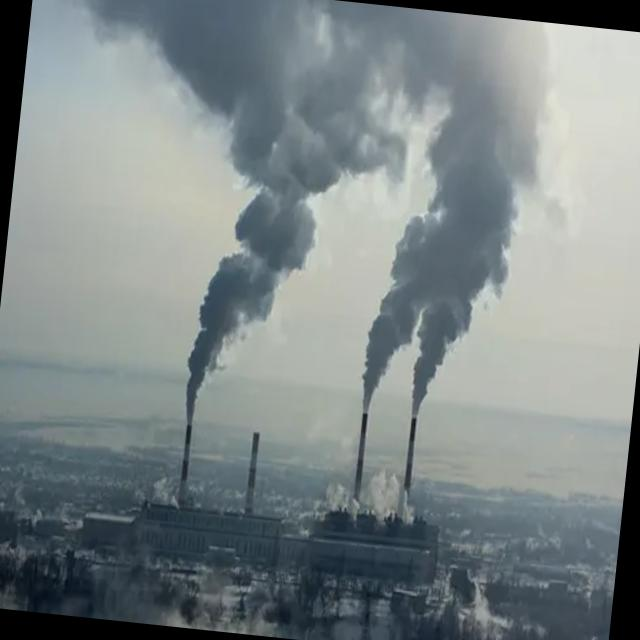Smoke: (144, 0, 365, 434), (361, 16, 555, 420)
